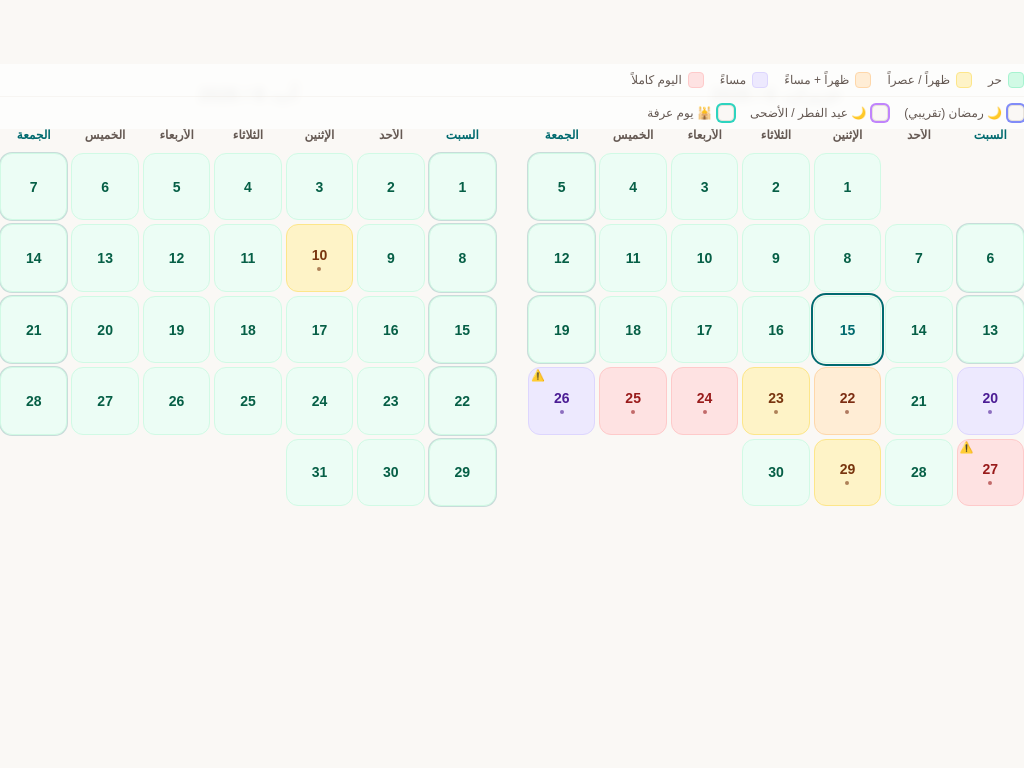
Scenario: CalendarGrid › opens a free future day and a later month day
Click the button "18" below "حزيران، 6 / 2026".
click(633, 330)  # box x1=599 y1=296 x2=667 y2=363
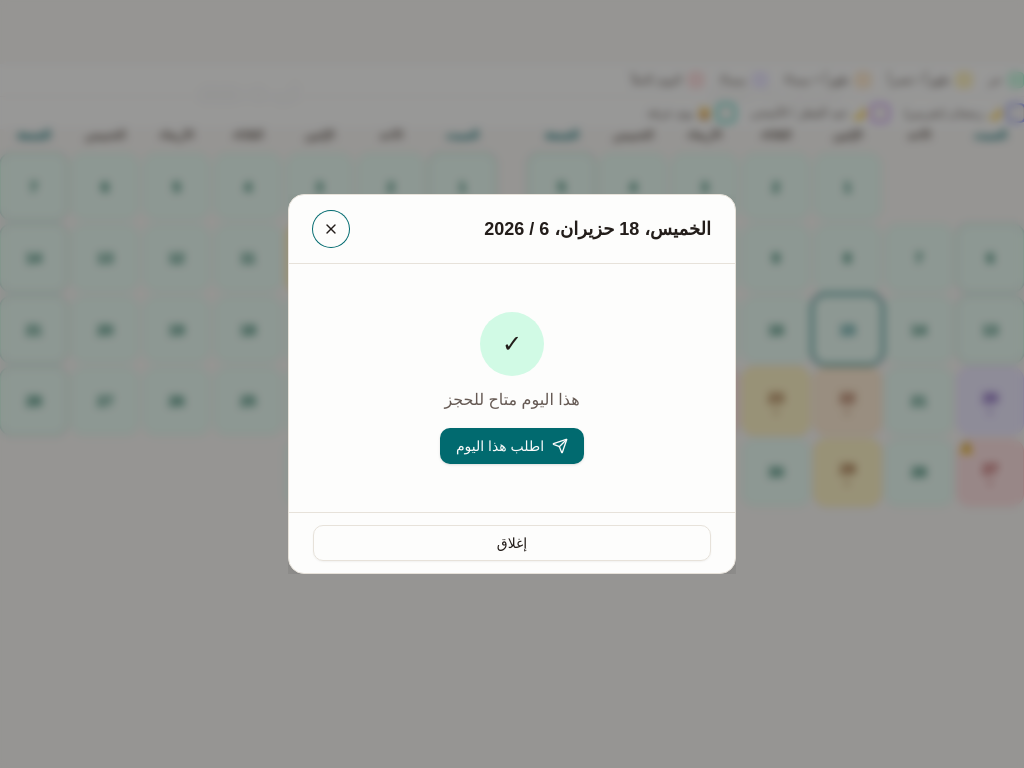
Expected: the text "هذا اليوم متاح للحجز" is shown, x1=444 y1=391 x2=580 y2=408
Click the button "إغلاق".
click(512, 543)  # box x1=313 y1=525 x2=711 y2=561
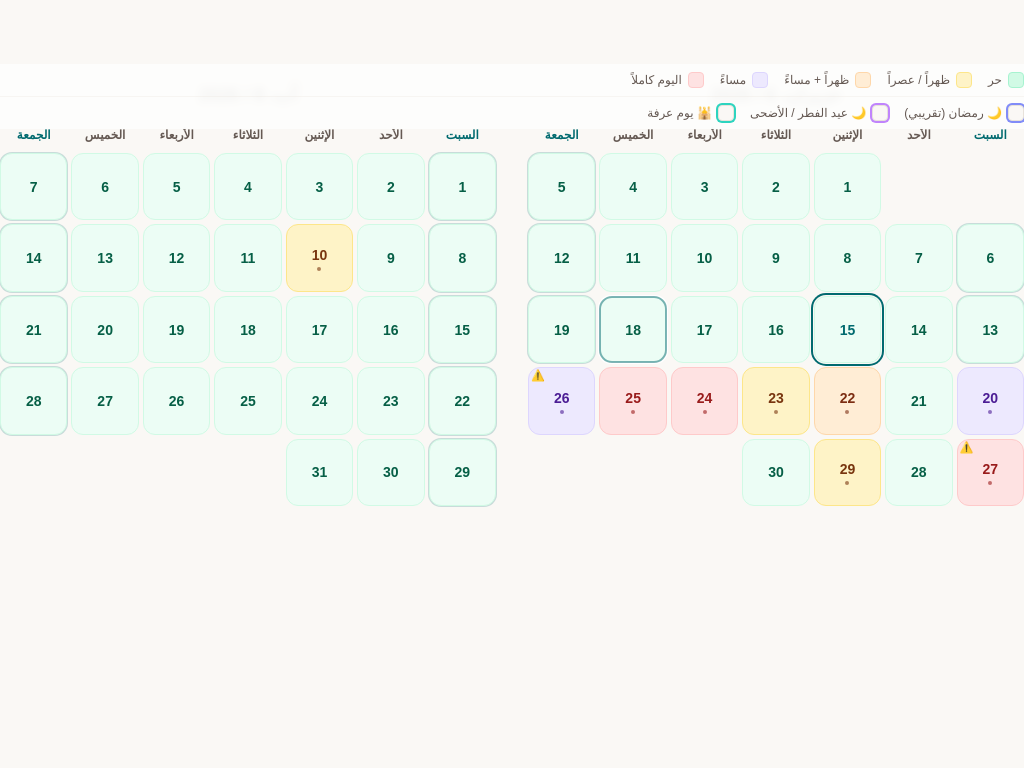
Click the button "10" below "آب، 8 / 2026".
click(319, 258)  # box x1=286 y1=224 x2=353 y2=292
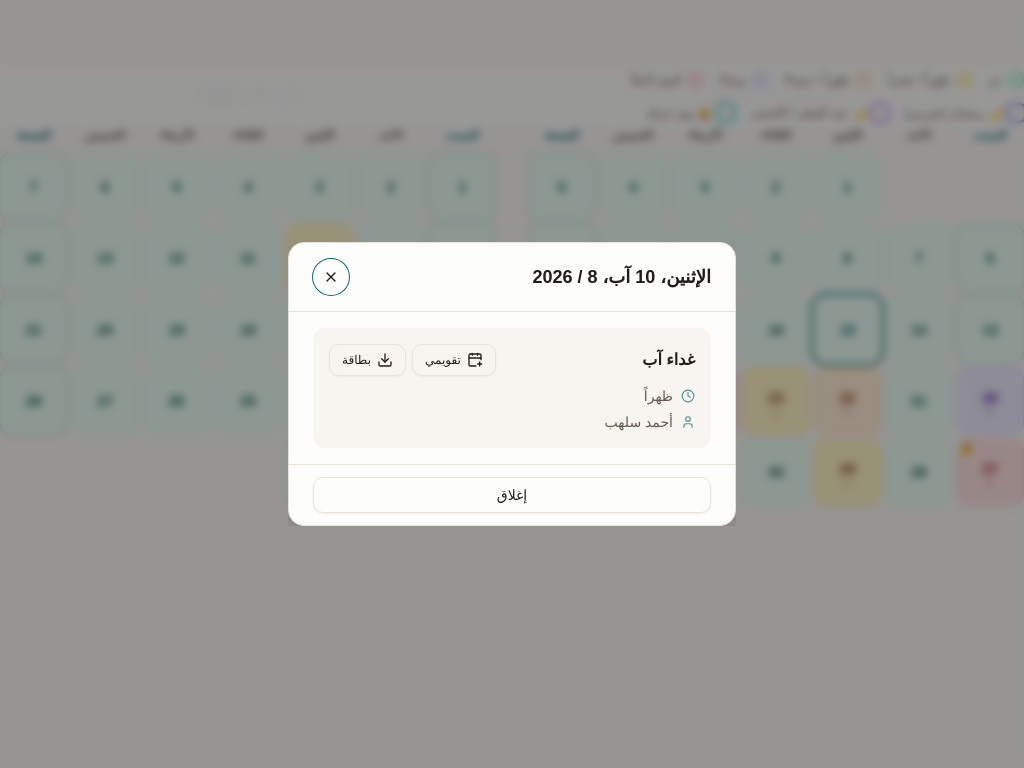
Expected: the text "غداء آب" is shown, x1=642 y1=348 x2=695 y2=372
